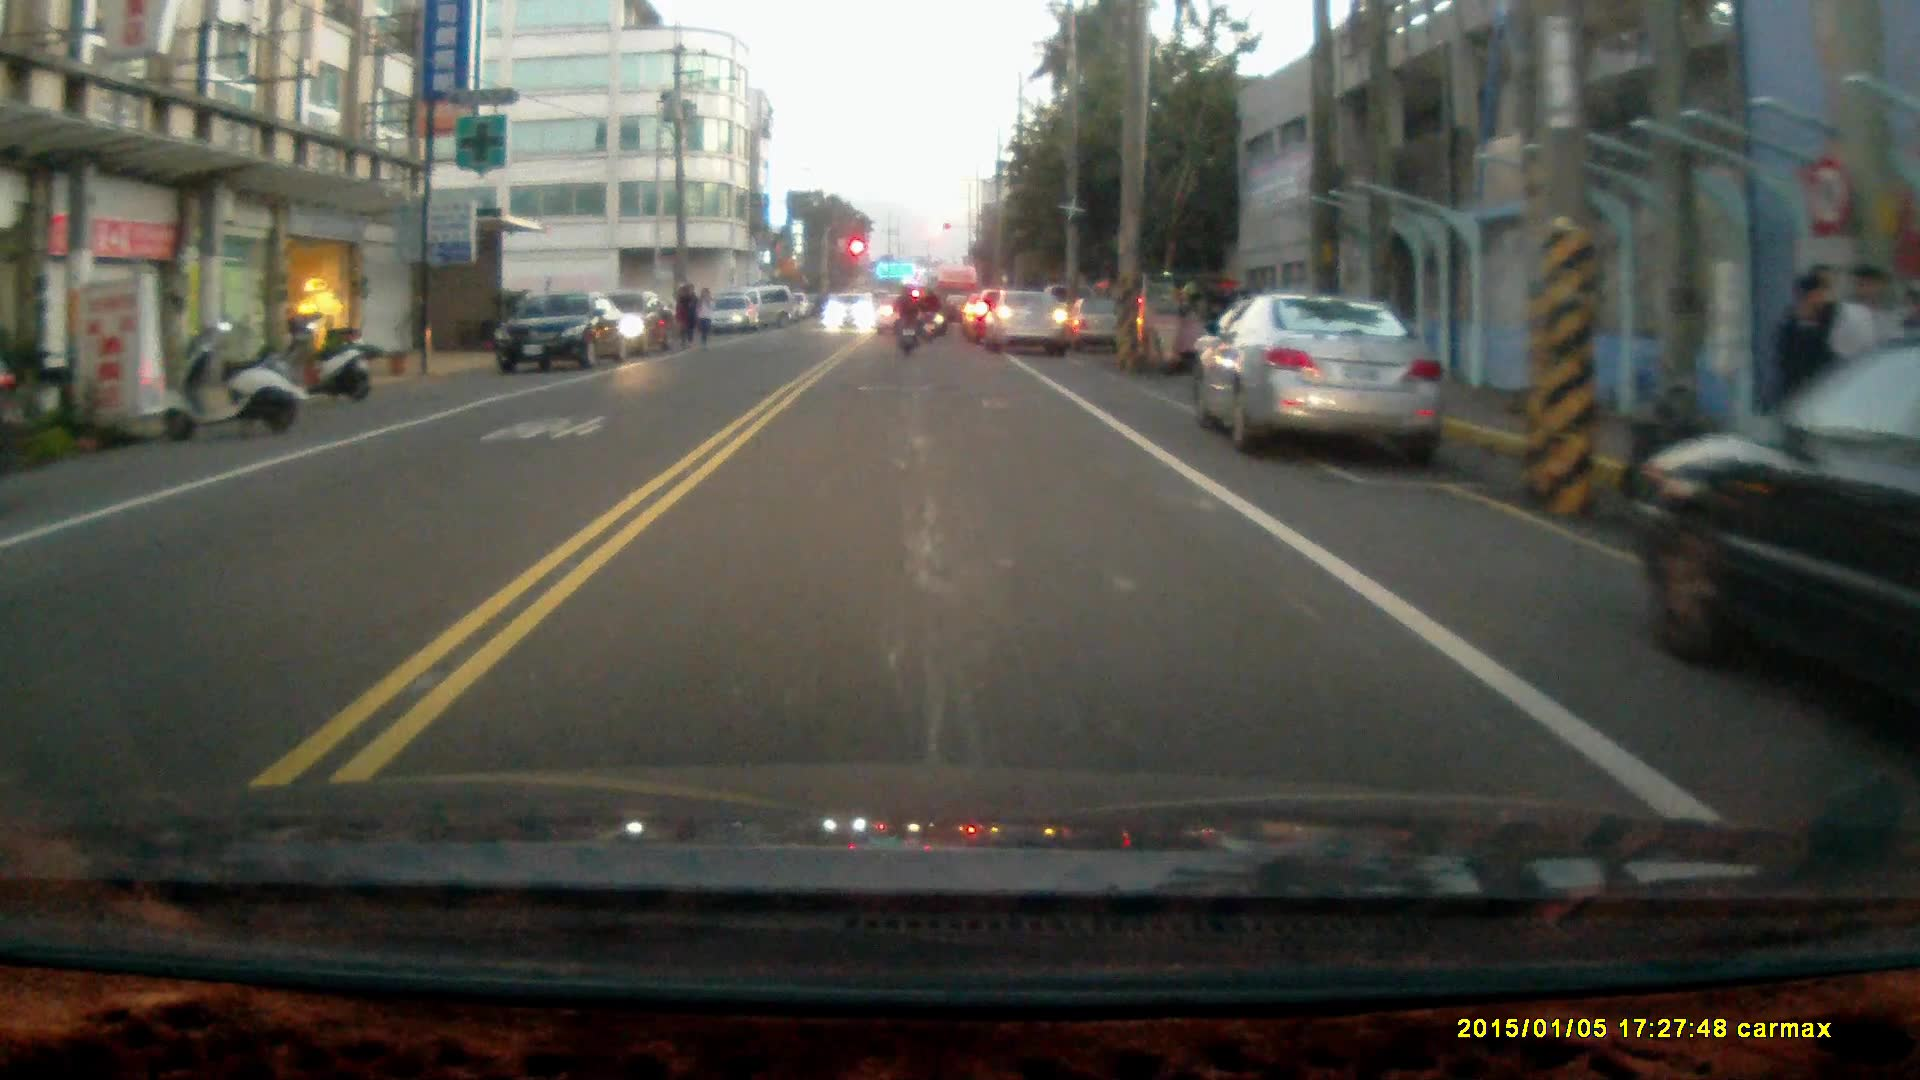pedestrian: (1823, 265, 1893, 467), (1769, 269, 1835, 474), (673, 282, 696, 350), (693, 285, 714, 348)
rider: (890, 282, 922, 358), (914, 284, 942, 346)
vehicle: (1630, 332, 1920, 726), (1196, 295, 1446, 462), (491, 294, 630, 383), (1111, 272, 1219, 373), (982, 288, 1070, 356), (821, 294, 875, 339)
